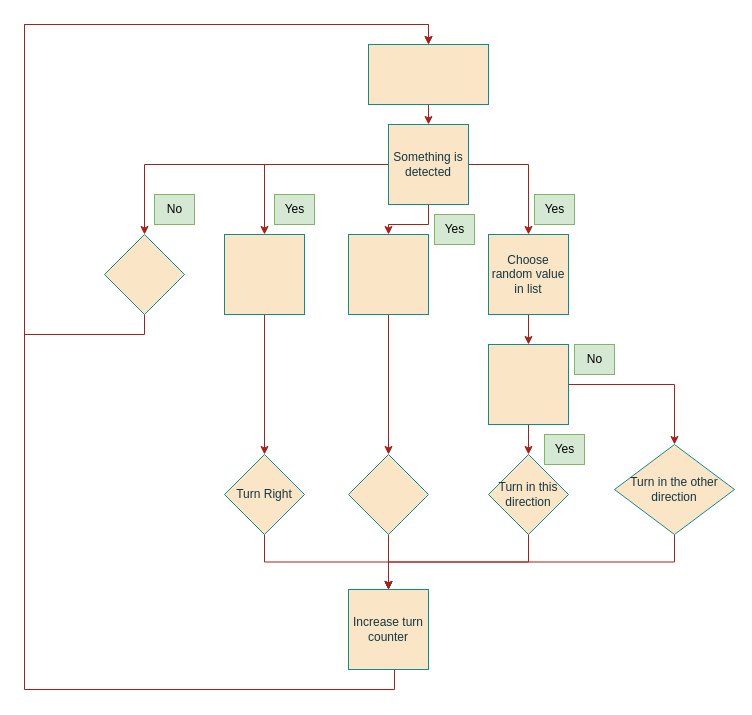
Image size: 752x715. Some labels were removed from this diagram. The box of each missing label's shape, as (x1, y1, x2, y2) in pixels:
Detection: (368, 44, 488, 104)
Go forward: (104, 234, 184, 314)
Possible ?: (488, 344, 568, 424)
To the left: (224, 234, 304, 314)
To the right: (348, 234, 428, 314)
Turn Left: (348, 454, 428, 534)
